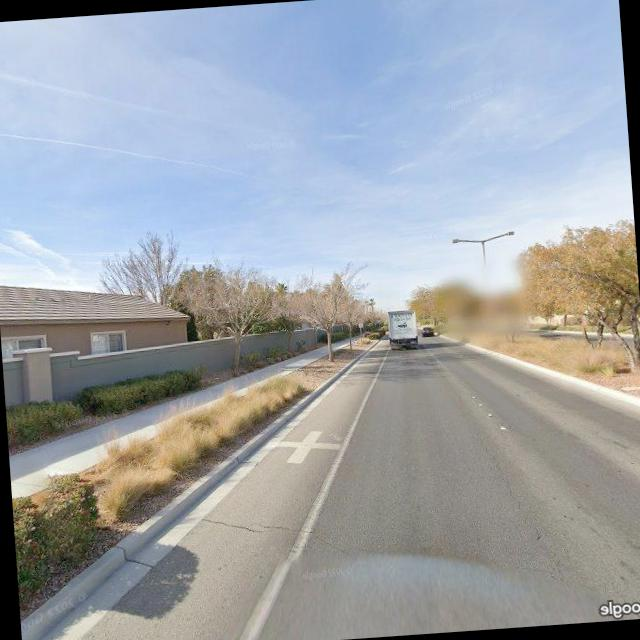crack: (484, 432, 570, 582), (194, 504, 310, 539)
